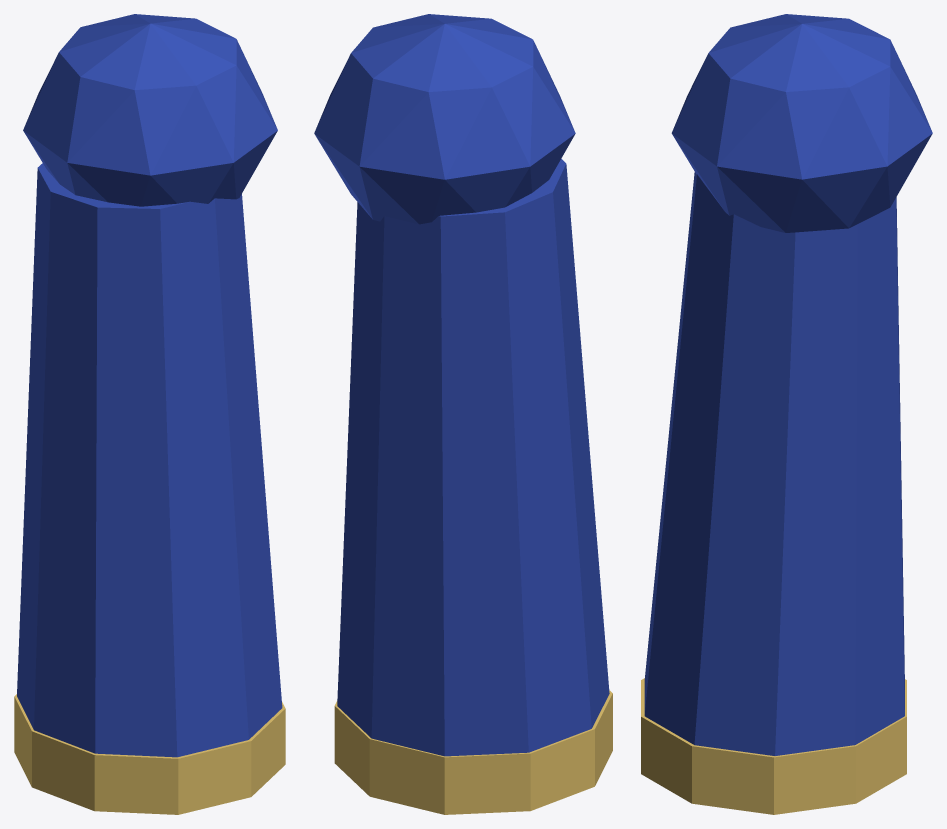
The model's file is gear_wizard_robe_arm_l.glb.
3 renders of one model, left to right at view 1: azimuth 30°, elevation 25°; view 2: azimuth 150°, elevation 25°; view 3: azimuth 270°, elevation 25°, orthographic. The views are drawn at different scales.
Visible parts, largest first — view 1: gear_wizard_robe_arm_l; view 2: gear_wizard_robe_arm_l; view 3: gear_wizard_robe_arm_l.
Part boxes in pixels (left/top/right/bottom): gear_wizard_robe_arm_l: left=14, top=14, right=285, bottom=814; gear_wizard_robe_arm_l: left=314, top=14, right=612, bottom=814; gear_wizard_robe_arm_l: left=641, top=14, right=932, bottom=814.
Bounding box in the file's own units: 0.205 × 0.578 × 0.2067.
